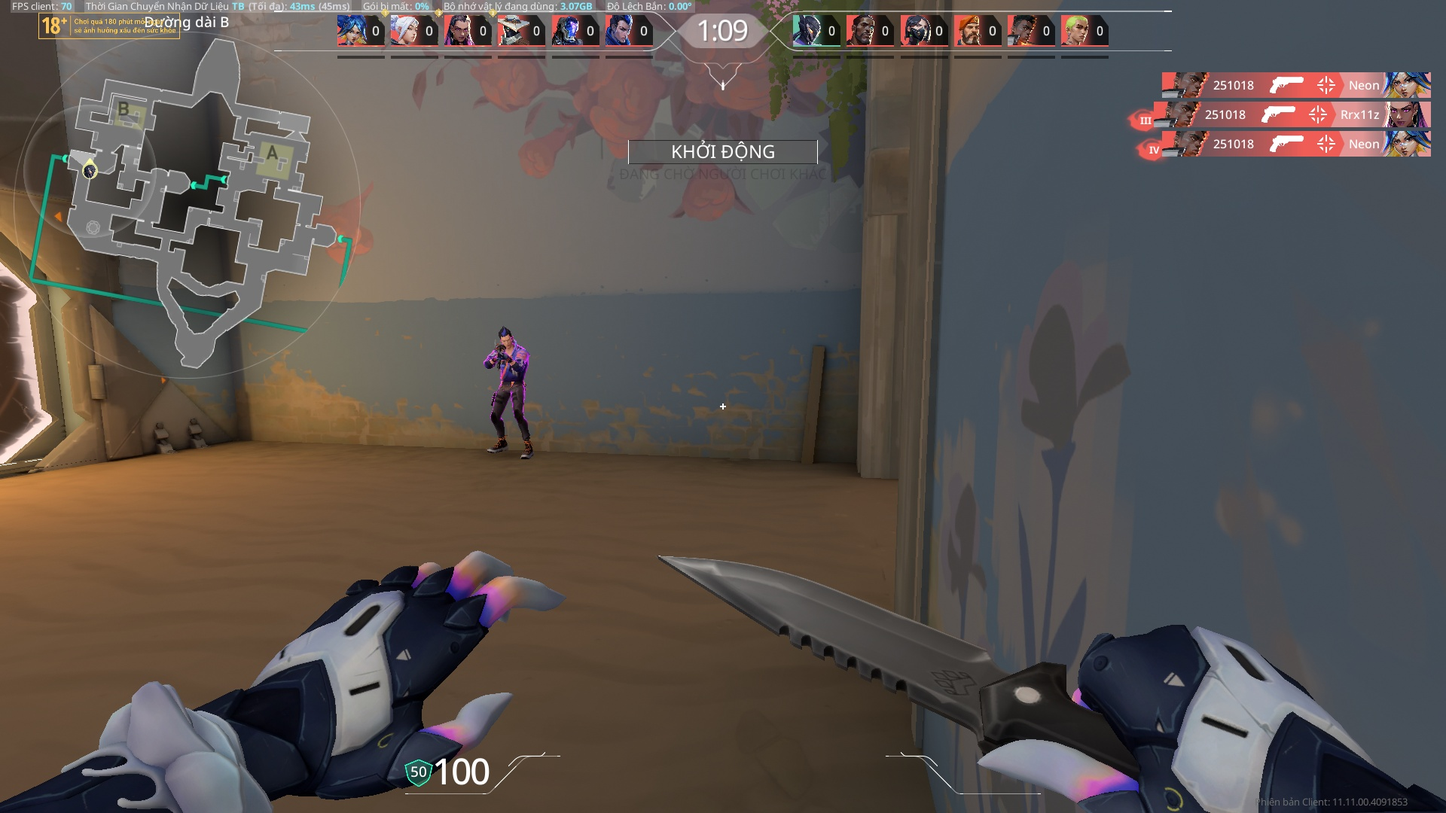body: (499, 346, 523, 387)
head: (497, 330, 513, 344)
